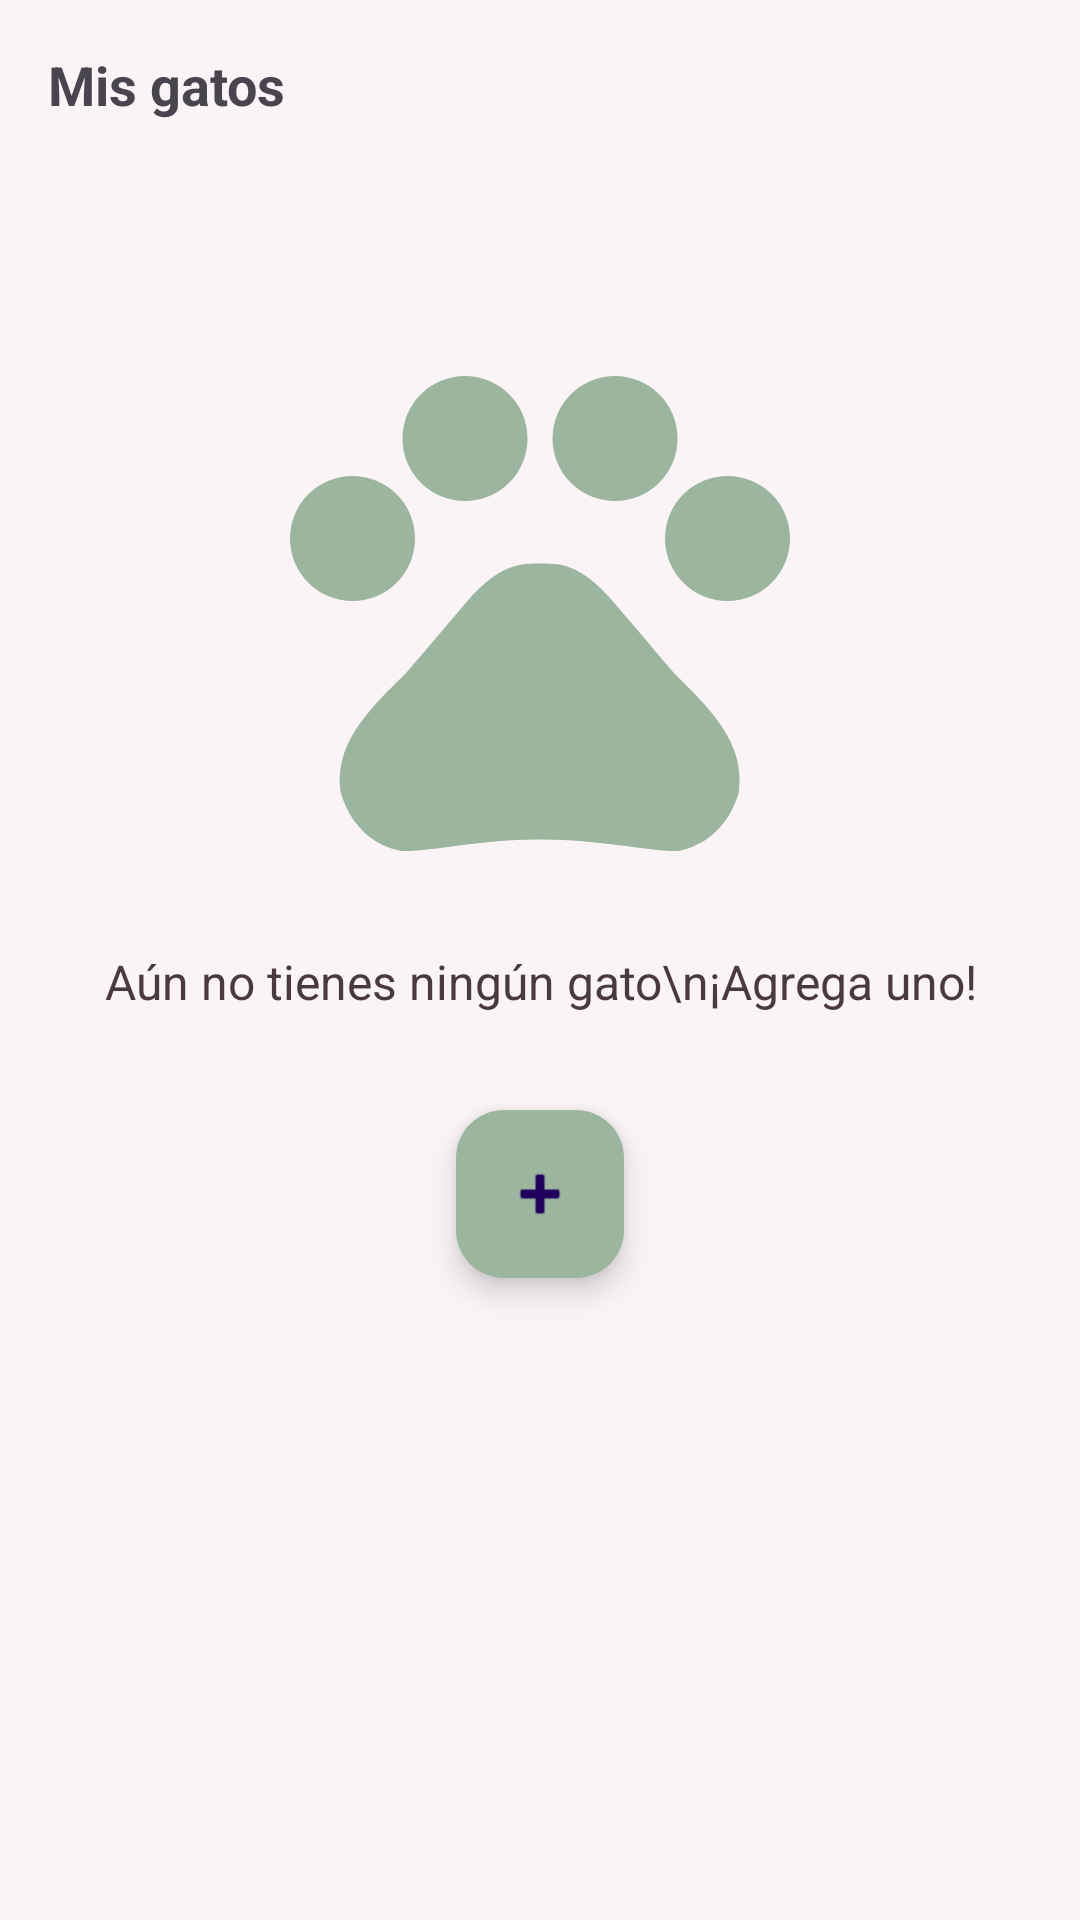

Point at icon controls on the screen. Image size 1080 x 1920, points as [x,y].
add: [540,1194]
